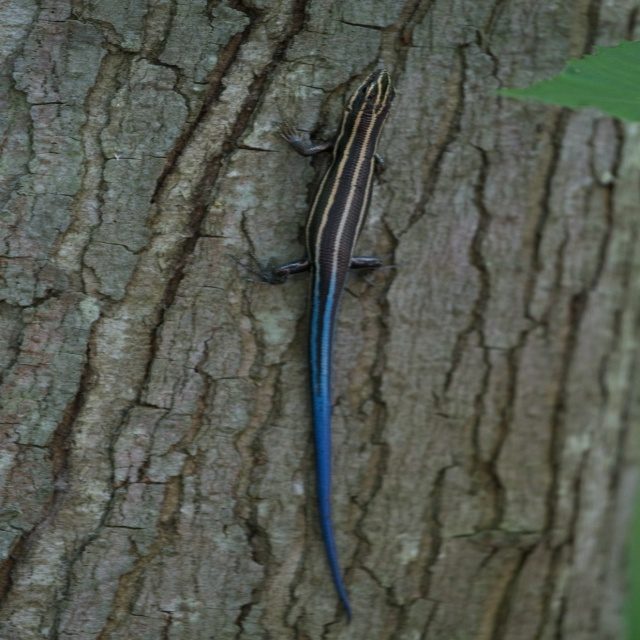Lizard: (246, 71, 397, 623)
